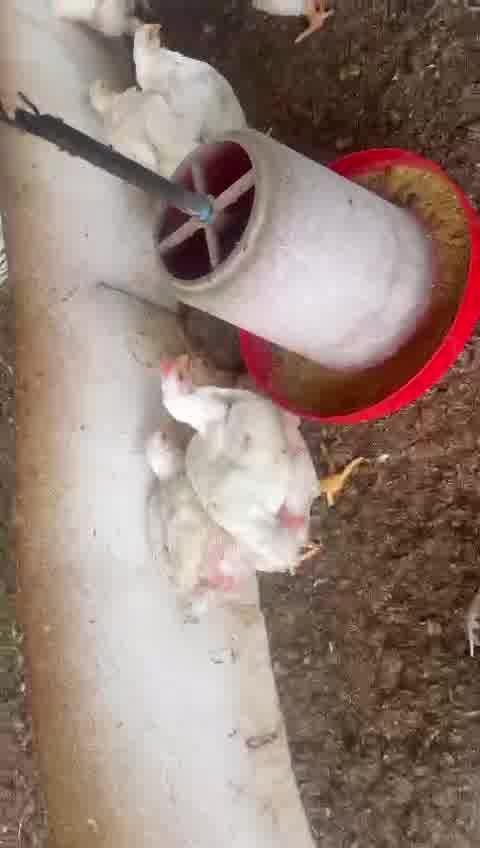Normal: (159, 357, 349, 557), (141, 433, 290, 628), (129, 22, 251, 129), (80, 79, 204, 138)
